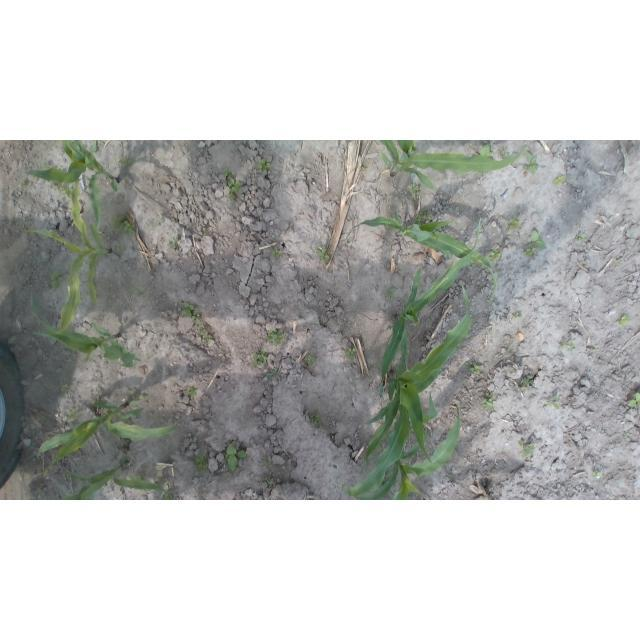Maize: (344, 279, 475, 497), (379, 219, 481, 400), (18, 180, 114, 335), (346, 216, 499, 308), (37, 401, 180, 476), (355, 404, 461, 501), (23, 140, 122, 236), (27, 295, 141, 368), (380, 141, 528, 192), (56, 466, 172, 500)
Weeds: (225, 444, 248, 472), (524, 151, 539, 173), (560, 336, 577, 353), (267, 328, 283, 345), (532, 230, 547, 248), (50, 269, 63, 288), (519, 440, 534, 456), (195, 327, 211, 342), (506, 215, 522, 230), (18, 434, 33, 449), (68, 407, 84, 421), (228, 178, 242, 194), (253, 350, 267, 366), (51, 182, 69, 194), (123, 218, 136, 234), (483, 393, 495, 410), (467, 362, 484, 374), (91, 140, 106, 153), (315, 248, 330, 261), (628, 392, 640, 407), (182, 303, 195, 316), (302, 355, 317, 366), (195, 455, 206, 470), (167, 236, 180, 248), (267, 367, 277, 382), (309, 414, 321, 426), (479, 144, 490, 157), (258, 160, 271, 171), (488, 250, 501, 261), (152, 218, 165, 228), (618, 315, 629, 326), (385, 288, 396, 299), (409, 183, 419, 195), (554, 175, 566, 185), (258, 459, 271, 468), (550, 395, 558, 409), (498, 147, 509, 157), (522, 377, 533, 387), (272, 247, 282, 258), (119, 156, 128, 168), (114, 215, 123, 227), (576, 234, 586, 243), (185, 387, 195, 396), (524, 249, 536, 256), (348, 349, 357, 358), (137, 289, 146, 297), (164, 494, 176, 500), (516, 310, 524, 318), (40, 161, 49, 168), (224, 167, 230, 177), (420, 212, 428, 219), (63, 384, 70, 392), (592, 471, 600, 478), (160, 477, 167, 484), (192, 313, 199, 320), (116, 245, 125, 250), (625, 432, 630, 439), (227, 194, 234, 199), (359, 167, 366, 172), (20, 180, 27, 184), (128, 391, 134, 395)
